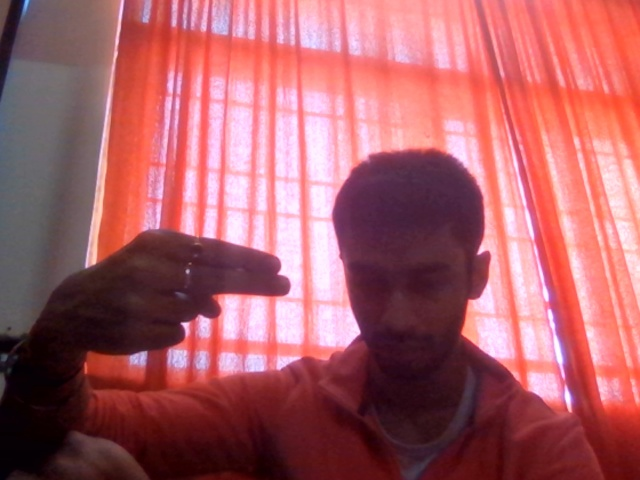H: (30, 203, 313, 377)
